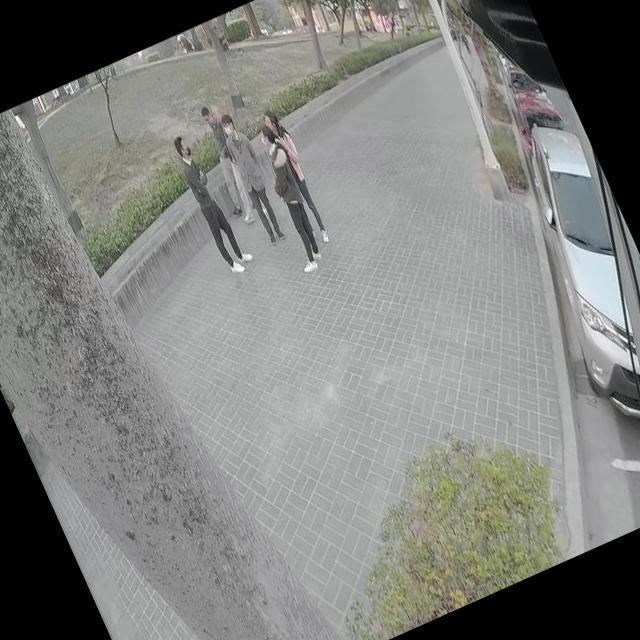person: (238, 116, 339, 280), (253, 100, 339, 252), (170, 132, 250, 278), (214, 110, 294, 251), (194, 98, 273, 224), (186, 102, 254, 220)
